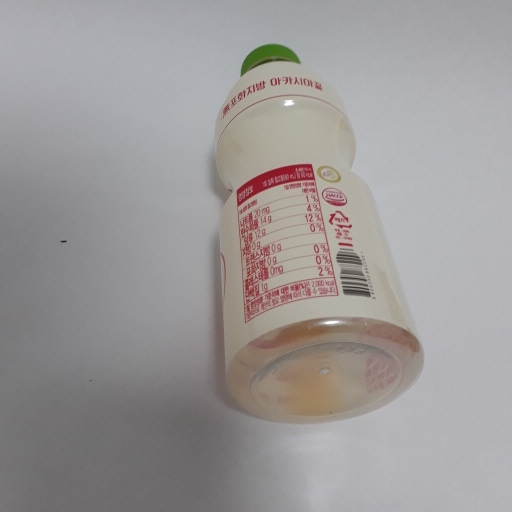Plastic_0: (205, 41, 428, 421)
